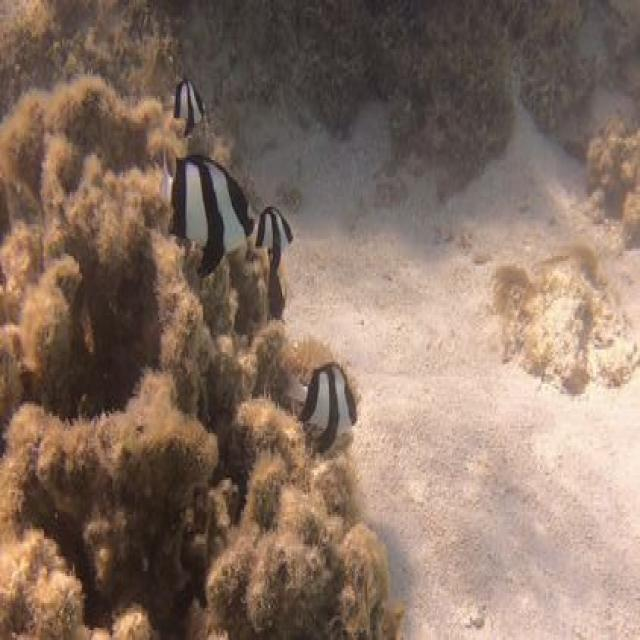Three_striped DasmselFish: (147, 150, 260, 277), (273, 357, 357, 440), (162, 69, 207, 124), (254, 207, 294, 260)
